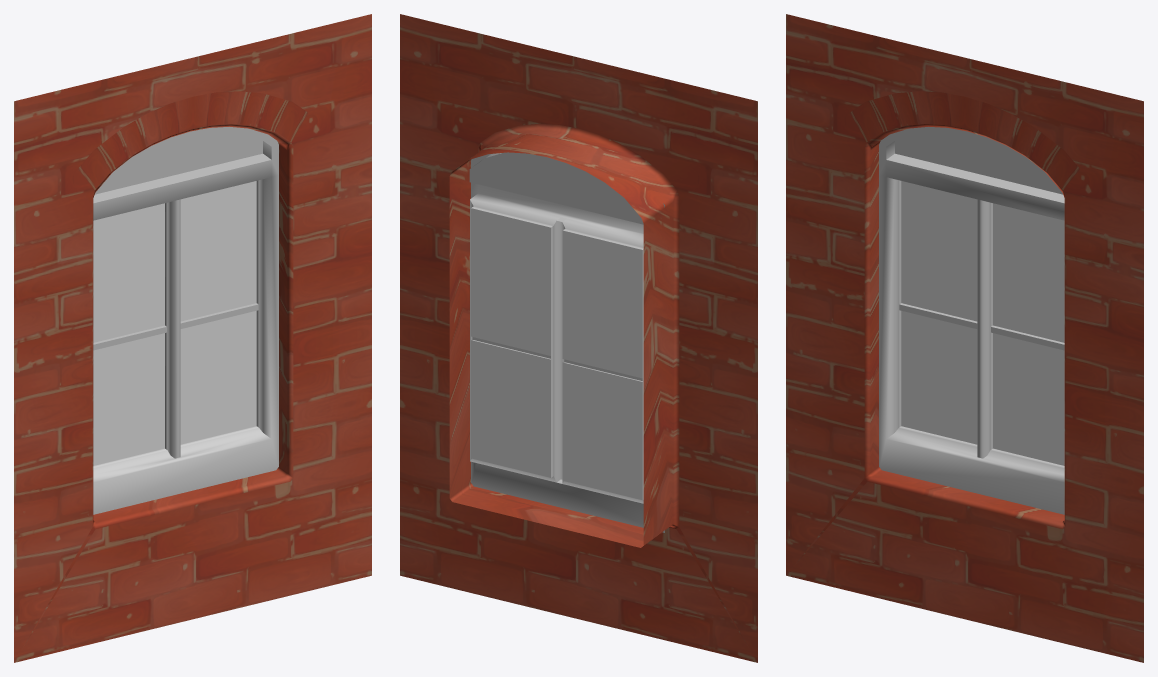
Rendered from Window_02.fbx.
The picture shows the model from 3 angles, left to right: view 1: azimuth 30°, elevation 25°; view 2: azimuth 150°, elevation 25°; view 3: azimuth 330°, elevation 25°; orthographic projection.
Visible parts, largest first — view 1: Window_02; view 2: Window_02; view 3: Window_02.
Part boxes in pixels (left/top/right/bottom): Window_02: left=14, top=14, right=371, bottom=662; Window_02: left=400, top=14, right=757, bottom=662; Window_02: left=786, top=14, right=1143, bottom=662.
Bounding box in the file's own units: 2 × 3 × 0.3145.
